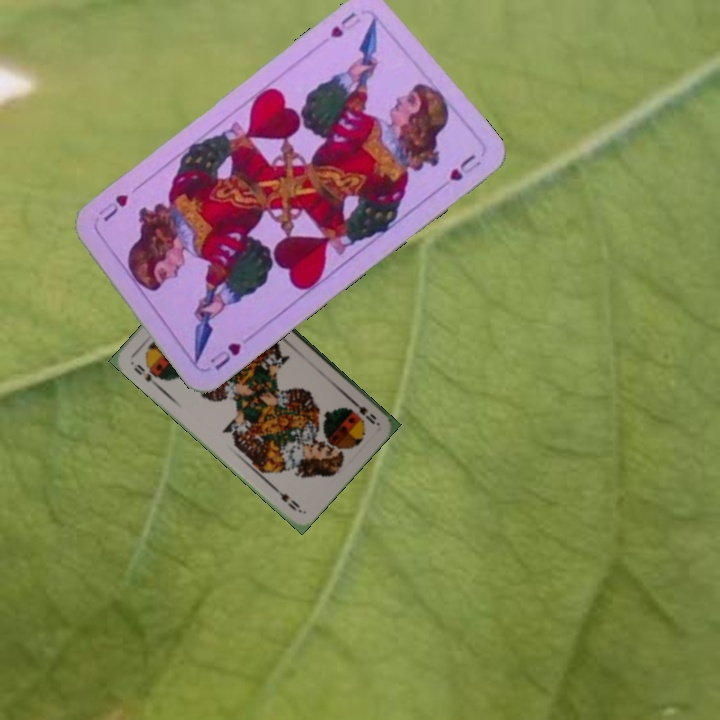HU: (205, 338, 244, 373), (326, 8, 364, 41)
SO: (347, 395, 381, 427), (130, 360, 161, 389)
